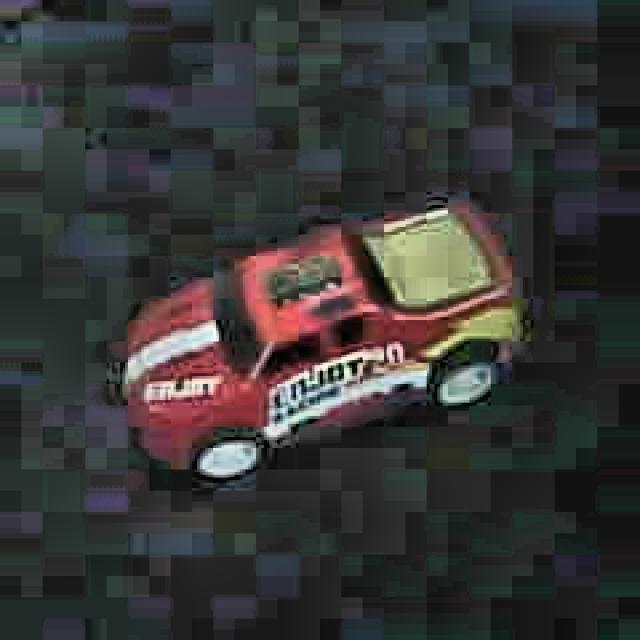car: (111, 192, 528, 482)
